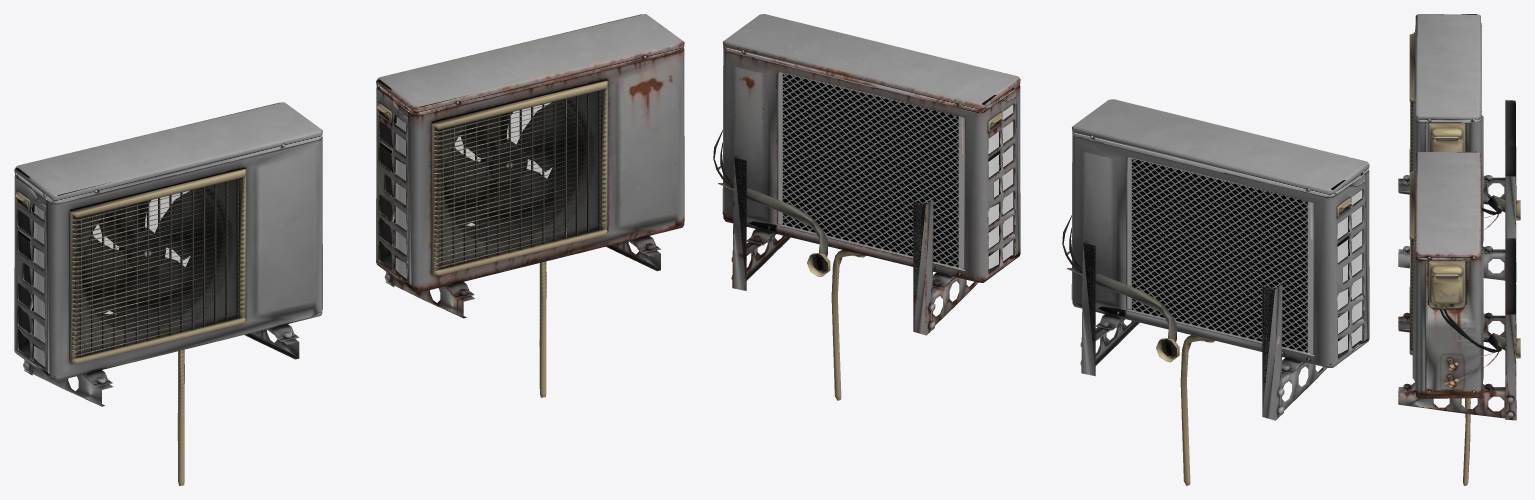
The model's file is exterior_aircon_unit.glb.
The picture shows the model from 3 angles, left to right: view 1: azimuth 30°, elevation 25°; view 2: azimuth 150°, elevation 25°; view 3: azimuth 270°, elevation 25°; orthographic projection. The views are drawn at different scales.
Visible parts, largest first — view 1: exterior_aircon_unit_rusted, exterior_aircon_unit; view 2: exterior_aircon_unit, exterior_aircon_unit_rusted; view 3: exterior_aircon_unit_rusted, exterior_aircon_unit.
Part boxes in pixels (x1,y1,x2,y2): exterior_aircon_unit_rusted: [376, 14, 684, 397]; exterior_aircon_unit: [14, 102, 322, 485]; exterior_aircon_unit: [1062, 99, 1369, 485]; exterior_aircon_unit_rusted: [713, 14, 1020, 400]; exterior_aircon_unit_rusted: [1398, 151, 1520, 485]; exterior_aircon_unit: [1398, 14, 1520, 282].
Size of the model in its own units: 1.8 by 0.9279 by 0.3742.
4 materials, 4 textured.
